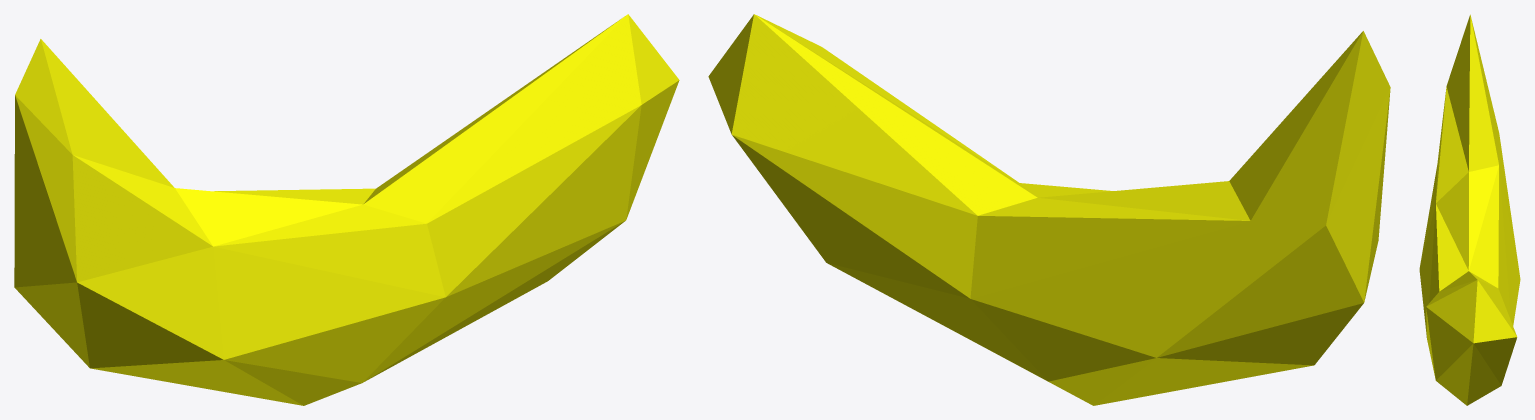
The model's file is Prop_Fruit_Banana_01.fbx.
3 views of the same model, side by side, from view 1: azimuth 30°, elevation 25°; view 2: azimuth 150°, elevation 25°; view 3: azimuth 270°, elevation 25° (orthographic). The views are drawn at different scales.
Visible parts, largest first — view 1: Prop_Fruit_Banana_01; view 2: Prop_Fruit_Banana_01; view 3: Prop_Fruit_Banana_01.
Boxes of the visible parts, x1,y1,x2,y2 form: Prop_Fruit_Banana_01: [14, 14, 679, 405]; Prop_Fruit_Banana_01: [708, 14, 1390, 405]; Prop_Fruit_Banana_01: [1419, 14, 1520, 405].
Size of the model in its own units: 441 by 273 by 90.03.
